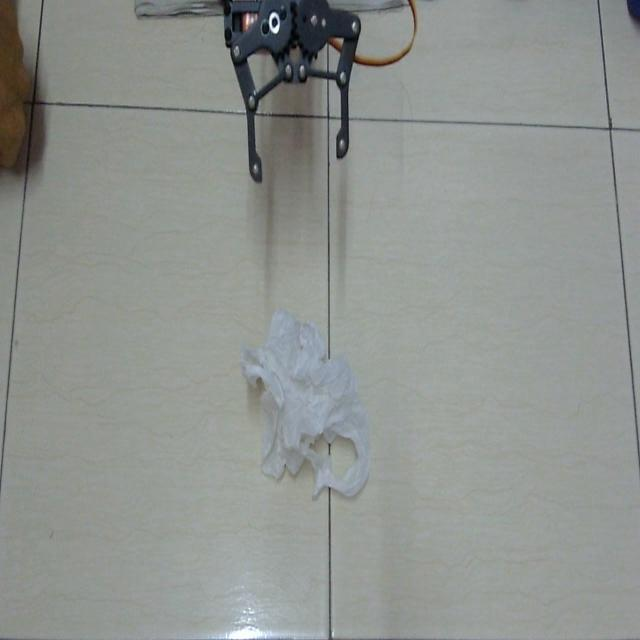plastic_laydown_0rotation: (238, 300, 371, 513)
